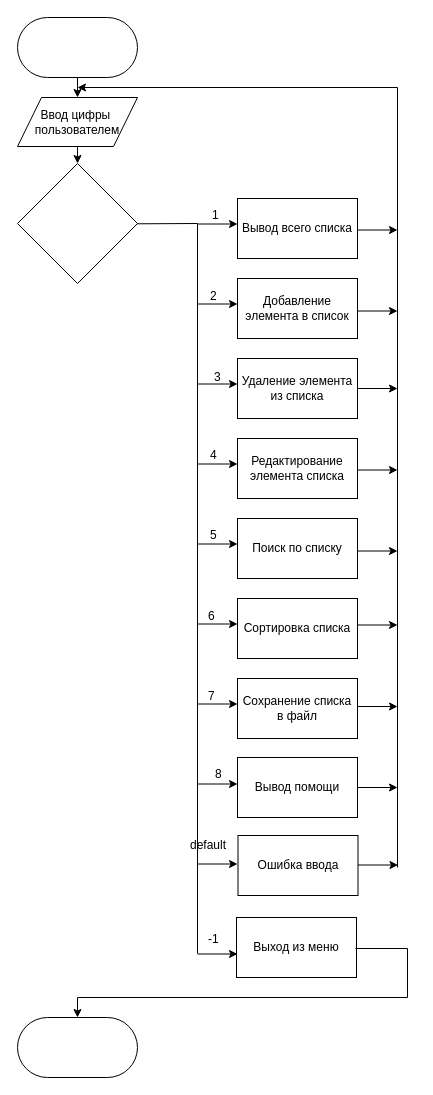
This 433x1095 diagram has some shape labels left out. Each missing label, with the centre of its shape:
switch (userAnswerInt): (x=77, y=223)
Конец: (x=77, y=1047)
Начало: (x=77, y=47)
